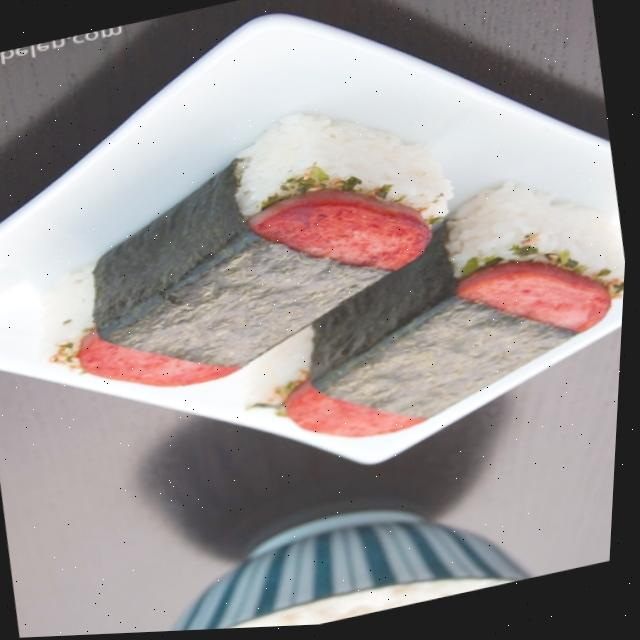寿司卷物: (0, 20, 638, 531)
